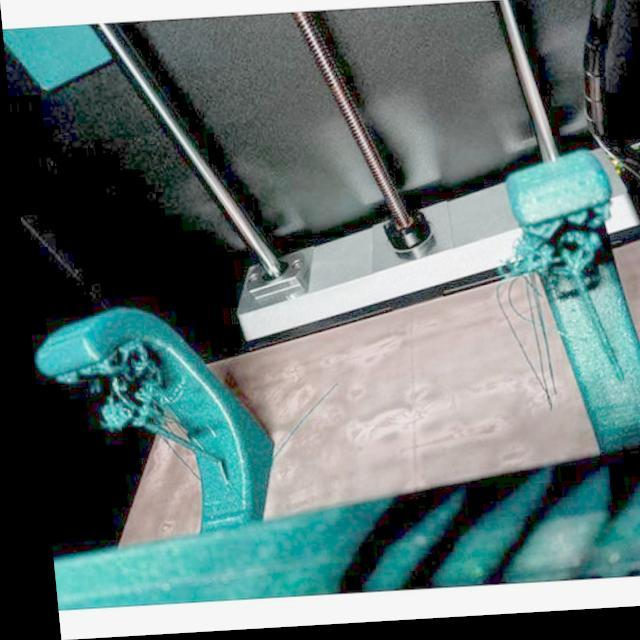spaghetti: (486, 215, 620, 420), (46, 340, 180, 434)
